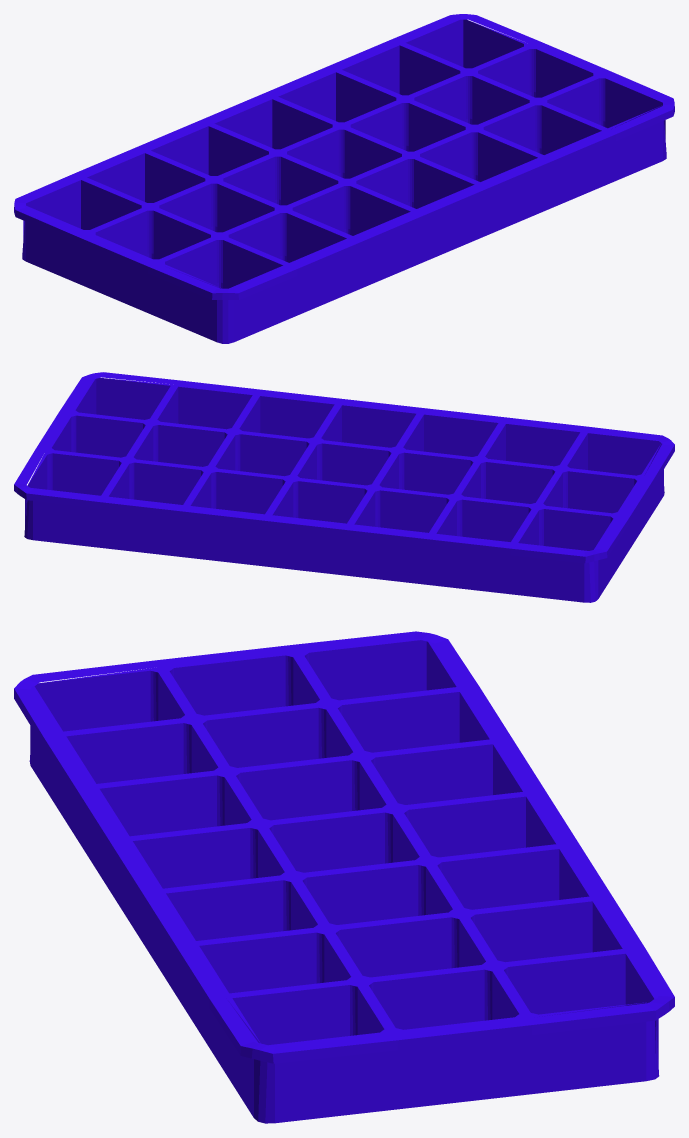
The picture shows the model from 3 angles, top to bottom: view 1: azimuth 30°, elevation 25°; view 2: azimuth 150°, elevation 25°; view 3: azimuth 270°, elevation 25°; orthographic projection. The views are drawn at different scales.
Parts seen in each view (by area): view 1: Box001; view 2: Box001; view 3: Box001.
Boxes of the visible parts, x1,y1,x2,y2 form: Box001: (14, 14, 674, 343); Box001: (14, 372, 674, 602); Box001: (14, 631, 674, 1123).
Size of the model in its own units: 2048647 by 174717 by 1354471.
